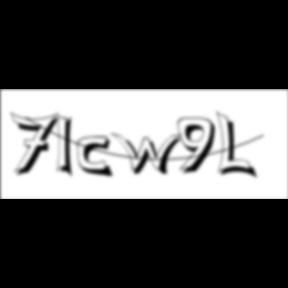7: (11, 111, 66, 179)
9: (178, 117, 222, 177)
I: (56, 110, 80, 182)
L: (216, 110, 260, 182)
c: (77, 136, 117, 180)
w: (111, 132, 189, 178)
